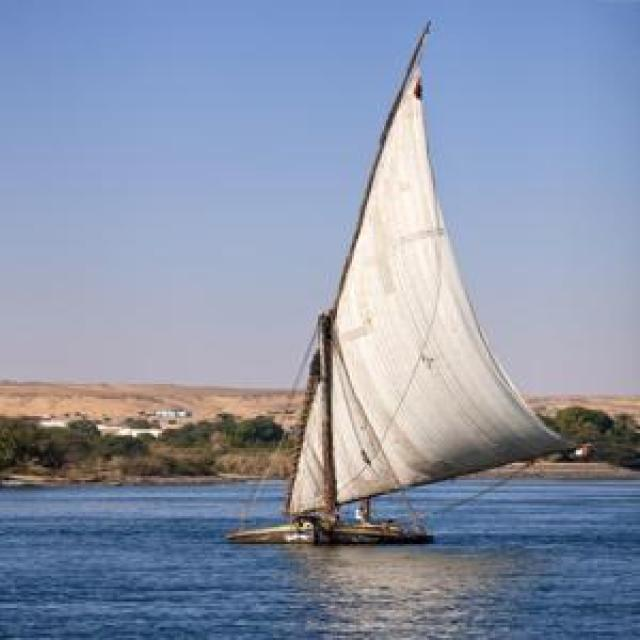sailboat: (228, 14, 556, 538)
